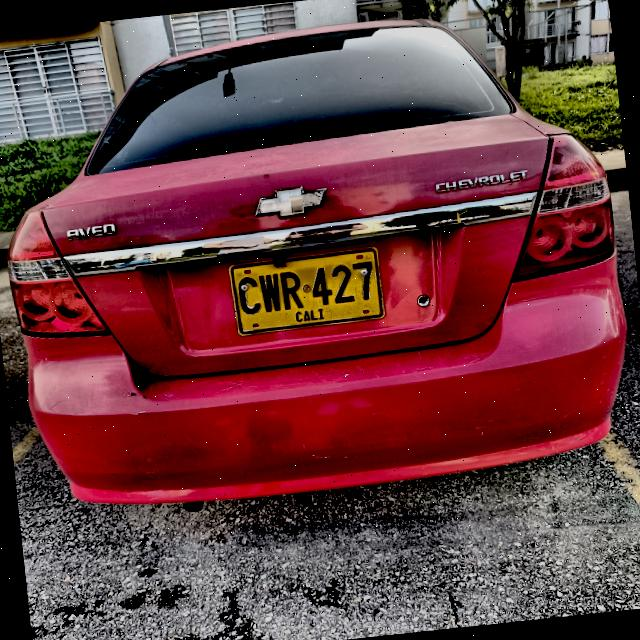2: (329, 262, 356, 305)
4: (308, 265, 334, 307)
7: (350, 259, 377, 301)
C: (235, 274, 263, 316)
R: (278, 269, 305, 312)
W: (256, 271, 282, 313)
